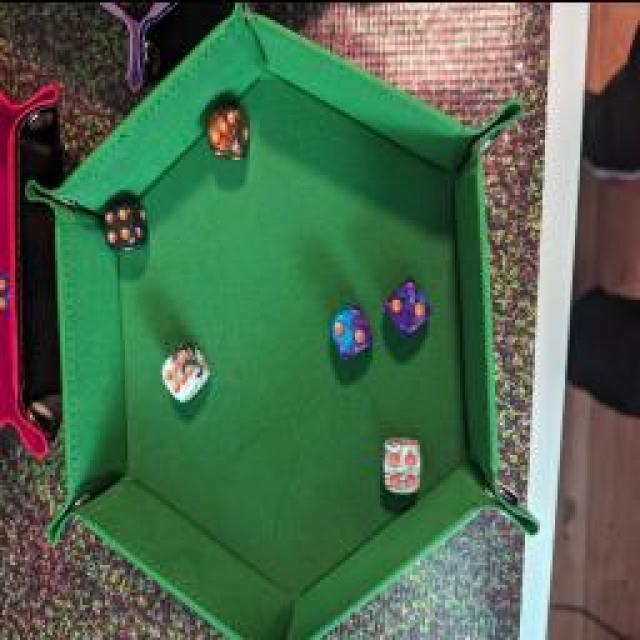dice_2: (378, 271, 434, 339), (325, 298, 370, 354)
dice_3: (205, 94, 250, 168)
dice_4: (380, 432, 425, 496), (100, 198, 150, 252)
dice_6: (159, 332, 209, 406)
